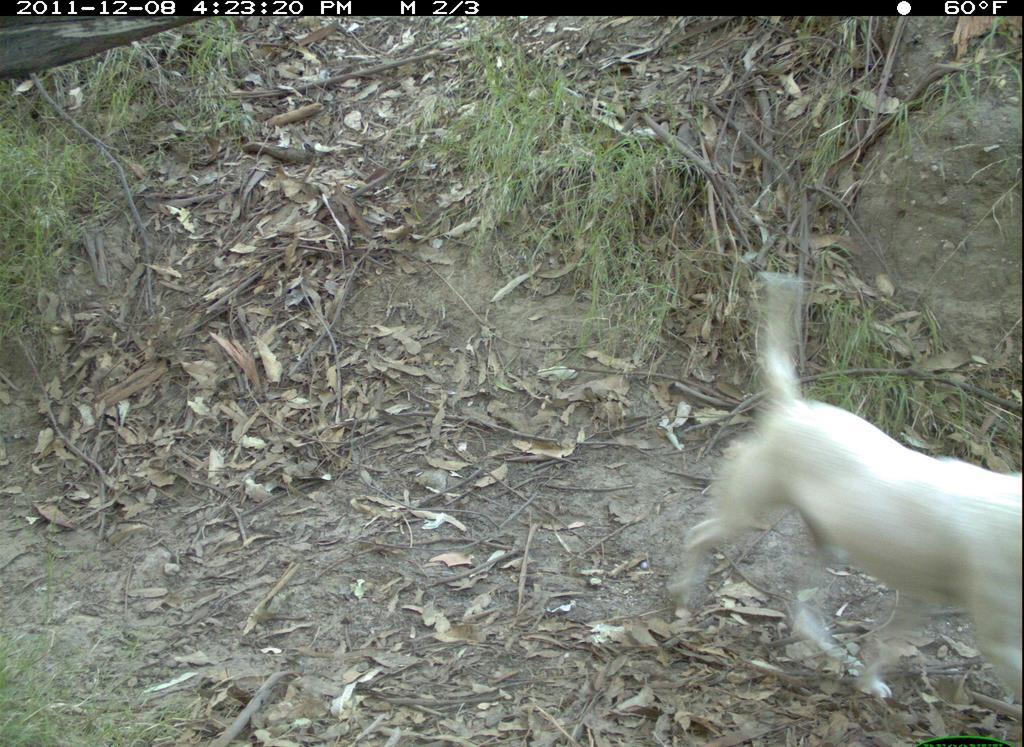dog: (655, 261, 1022, 716)
